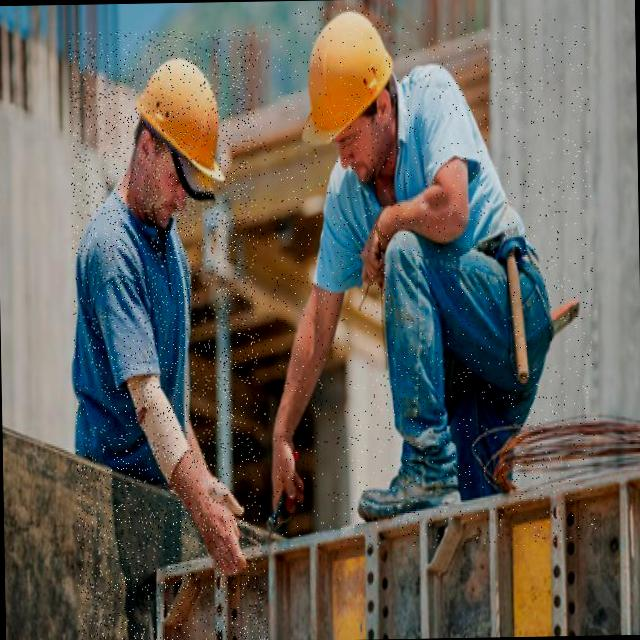boots: (349, 426, 467, 532)
helmet: (286, 3, 406, 152), (125, 48, 248, 188)
no-gloves: (223, 323, 362, 498), (142, 396, 253, 588), (344, 191, 504, 260)
